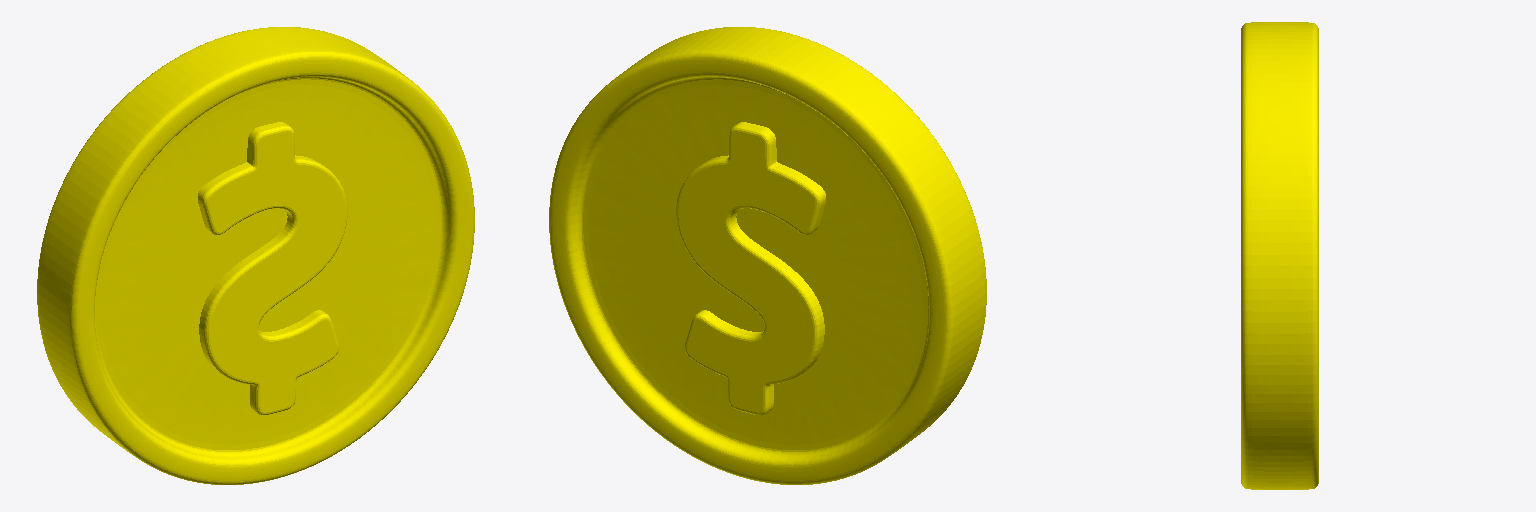
The picture shows the model from 3 angles: view 1: azimuth 30°, elevation 25°; view 2: azimuth 150°, elevation 25°; view 3: azimuth 270°, elevation 25°; orthographic projection.
Visible parts, largest first — view 1: Coin_Dollar_1,5_cm, Curve; view 2: Coin_Dollar_1,5_cm, Curve; view 3: Coin_Dollar_1,5_cm.
Part boxes in pixels (bbox=[...]): Coin_Dollar_1,5_cm: bbox=[37, 27, 474, 484]; Curve: bbox=[198, 122, 347, 414]; Coin_Dollar_1,5_cm: bbox=[549, 27, 986, 484]; Curve: bbox=[676, 122, 825, 414]; Coin_Dollar_1,5_cm: bbox=[1241, 22, 1318, 489].
Bounding box in the file's own units: 0.7052 × 0.7052 × 0.1182.
1 materials, 1 textured.